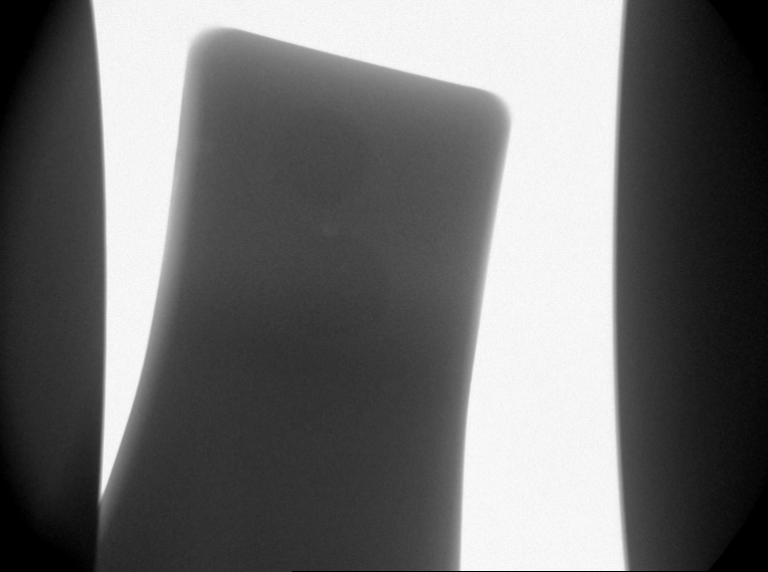defect: (318, 215, 344, 238)
